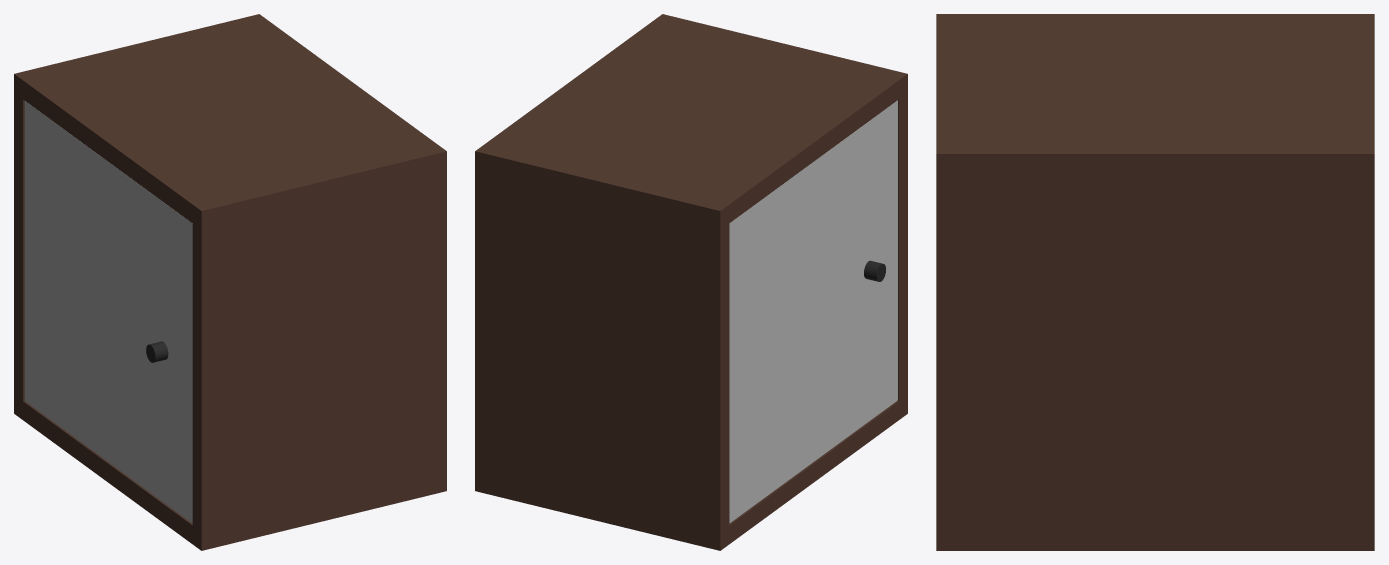
Rendered from Cabinet101_separated.fbx.
3 renders of one model, left to right at view 1: azimuth 30°, elevation 25°; view 2: azimuth 150°, elevation 25°; view 3: azimuth 270°, elevation 25°, orthographic. The views are drawn at different scales.
Parts seen in each view (by area): view 1: Body101, Door101; view 2: Body101, Door101; view 3: Body101.
Boxes of the visible parts, x1,y1,x2,y2 form: Body101: (14, 14, 446, 550); Door101: (24, 101, 192, 523); Body101: (475, 14, 907, 550); Door101: (729, 100, 897, 523); Body101: (936, 14, 1374, 550).
Size of the model in its own units: 79.28 by 100 by 100.
